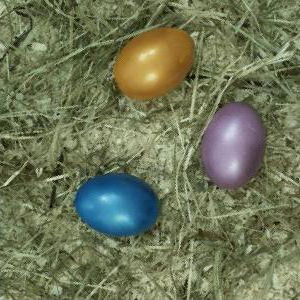egg: (113, 28, 194, 99), (202, 103, 266, 189), (76, 174, 159, 236)
